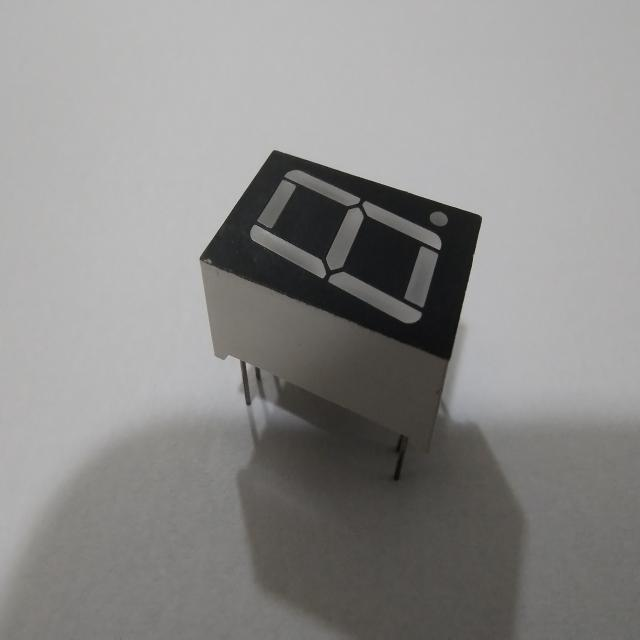7_segments: (194, 135, 486, 492)
